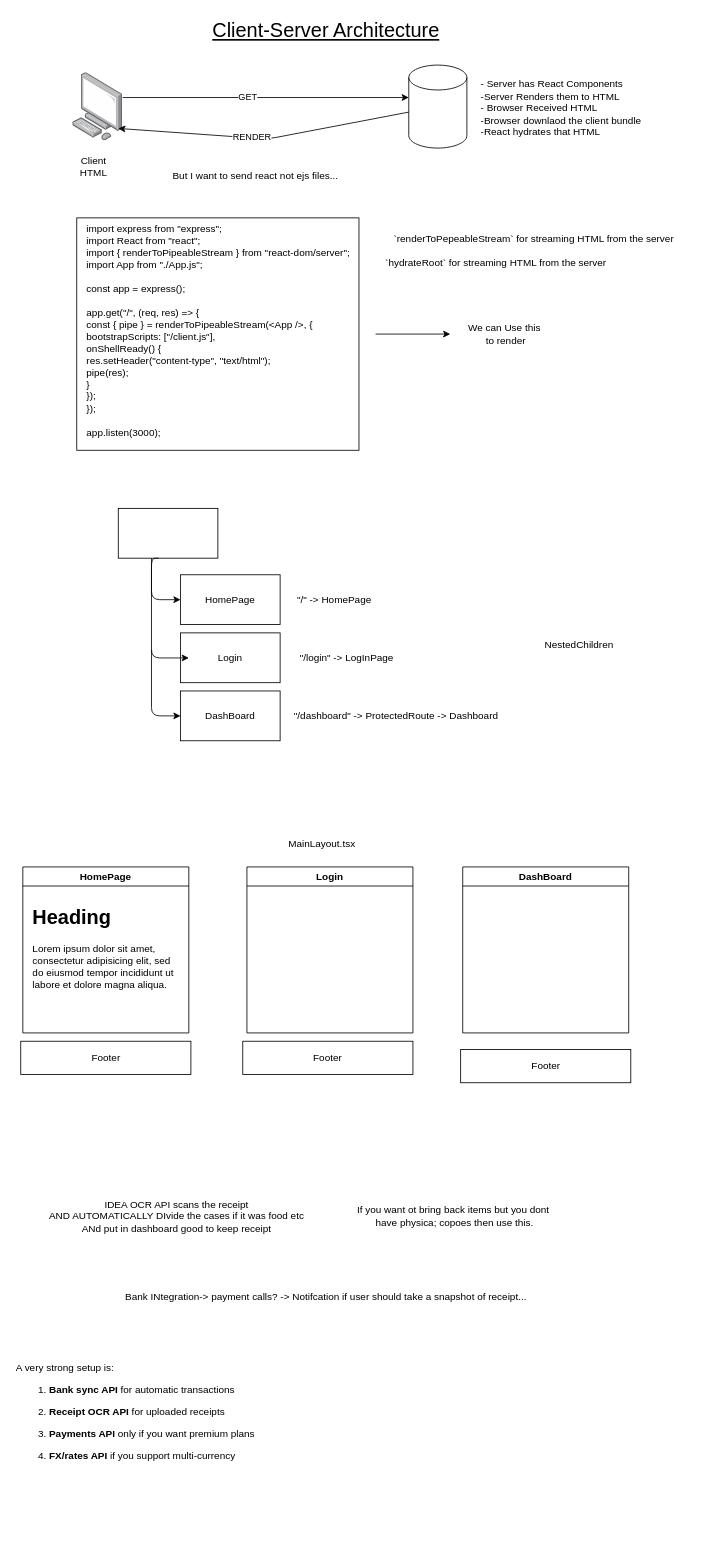
Some shapes in this 705 by 1551 pixel diagram are drawn without their labels. Each missing label, with the centre of its shape:
APP: point (167, 533)
Server: point (437, 106)
